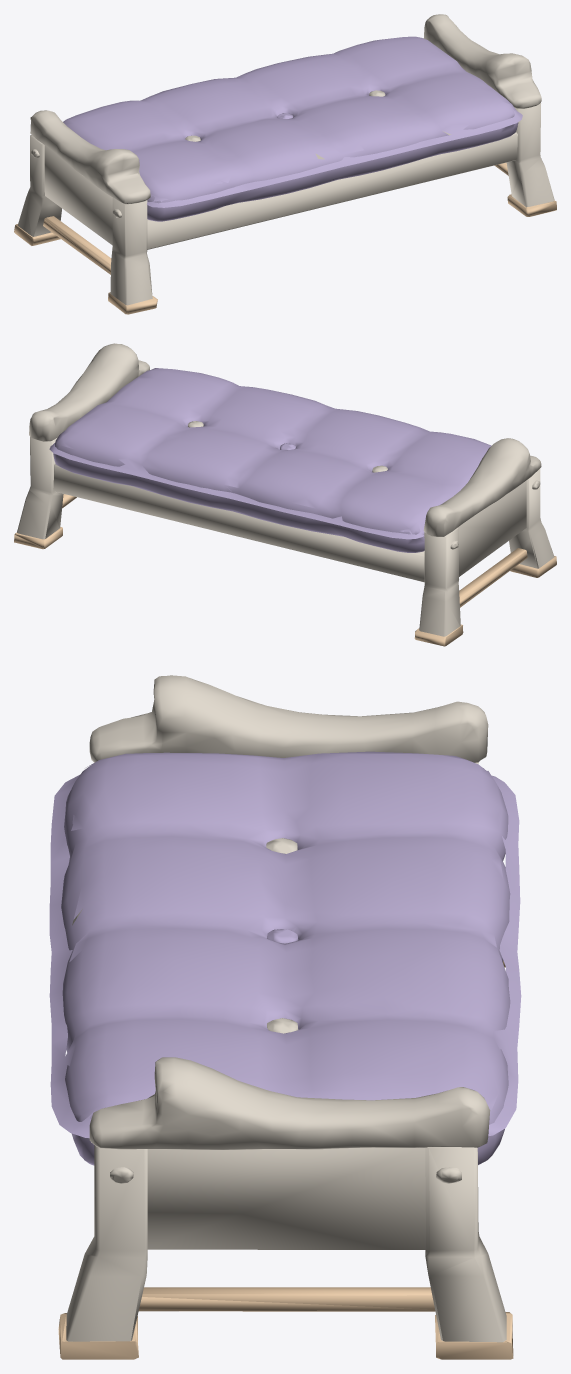
File: bedroom_bench.glb
3 renders of one model, top to bottom at view 1: azimuth 30°, elevation 25°; view 2: azimuth 150°, elevation 25°; view 3: azimuth 270°, elevation 25°, orthographic. The views are drawn at different scales.
Size of the model in its own units: 3.7 by 1.15 by 1.76.
